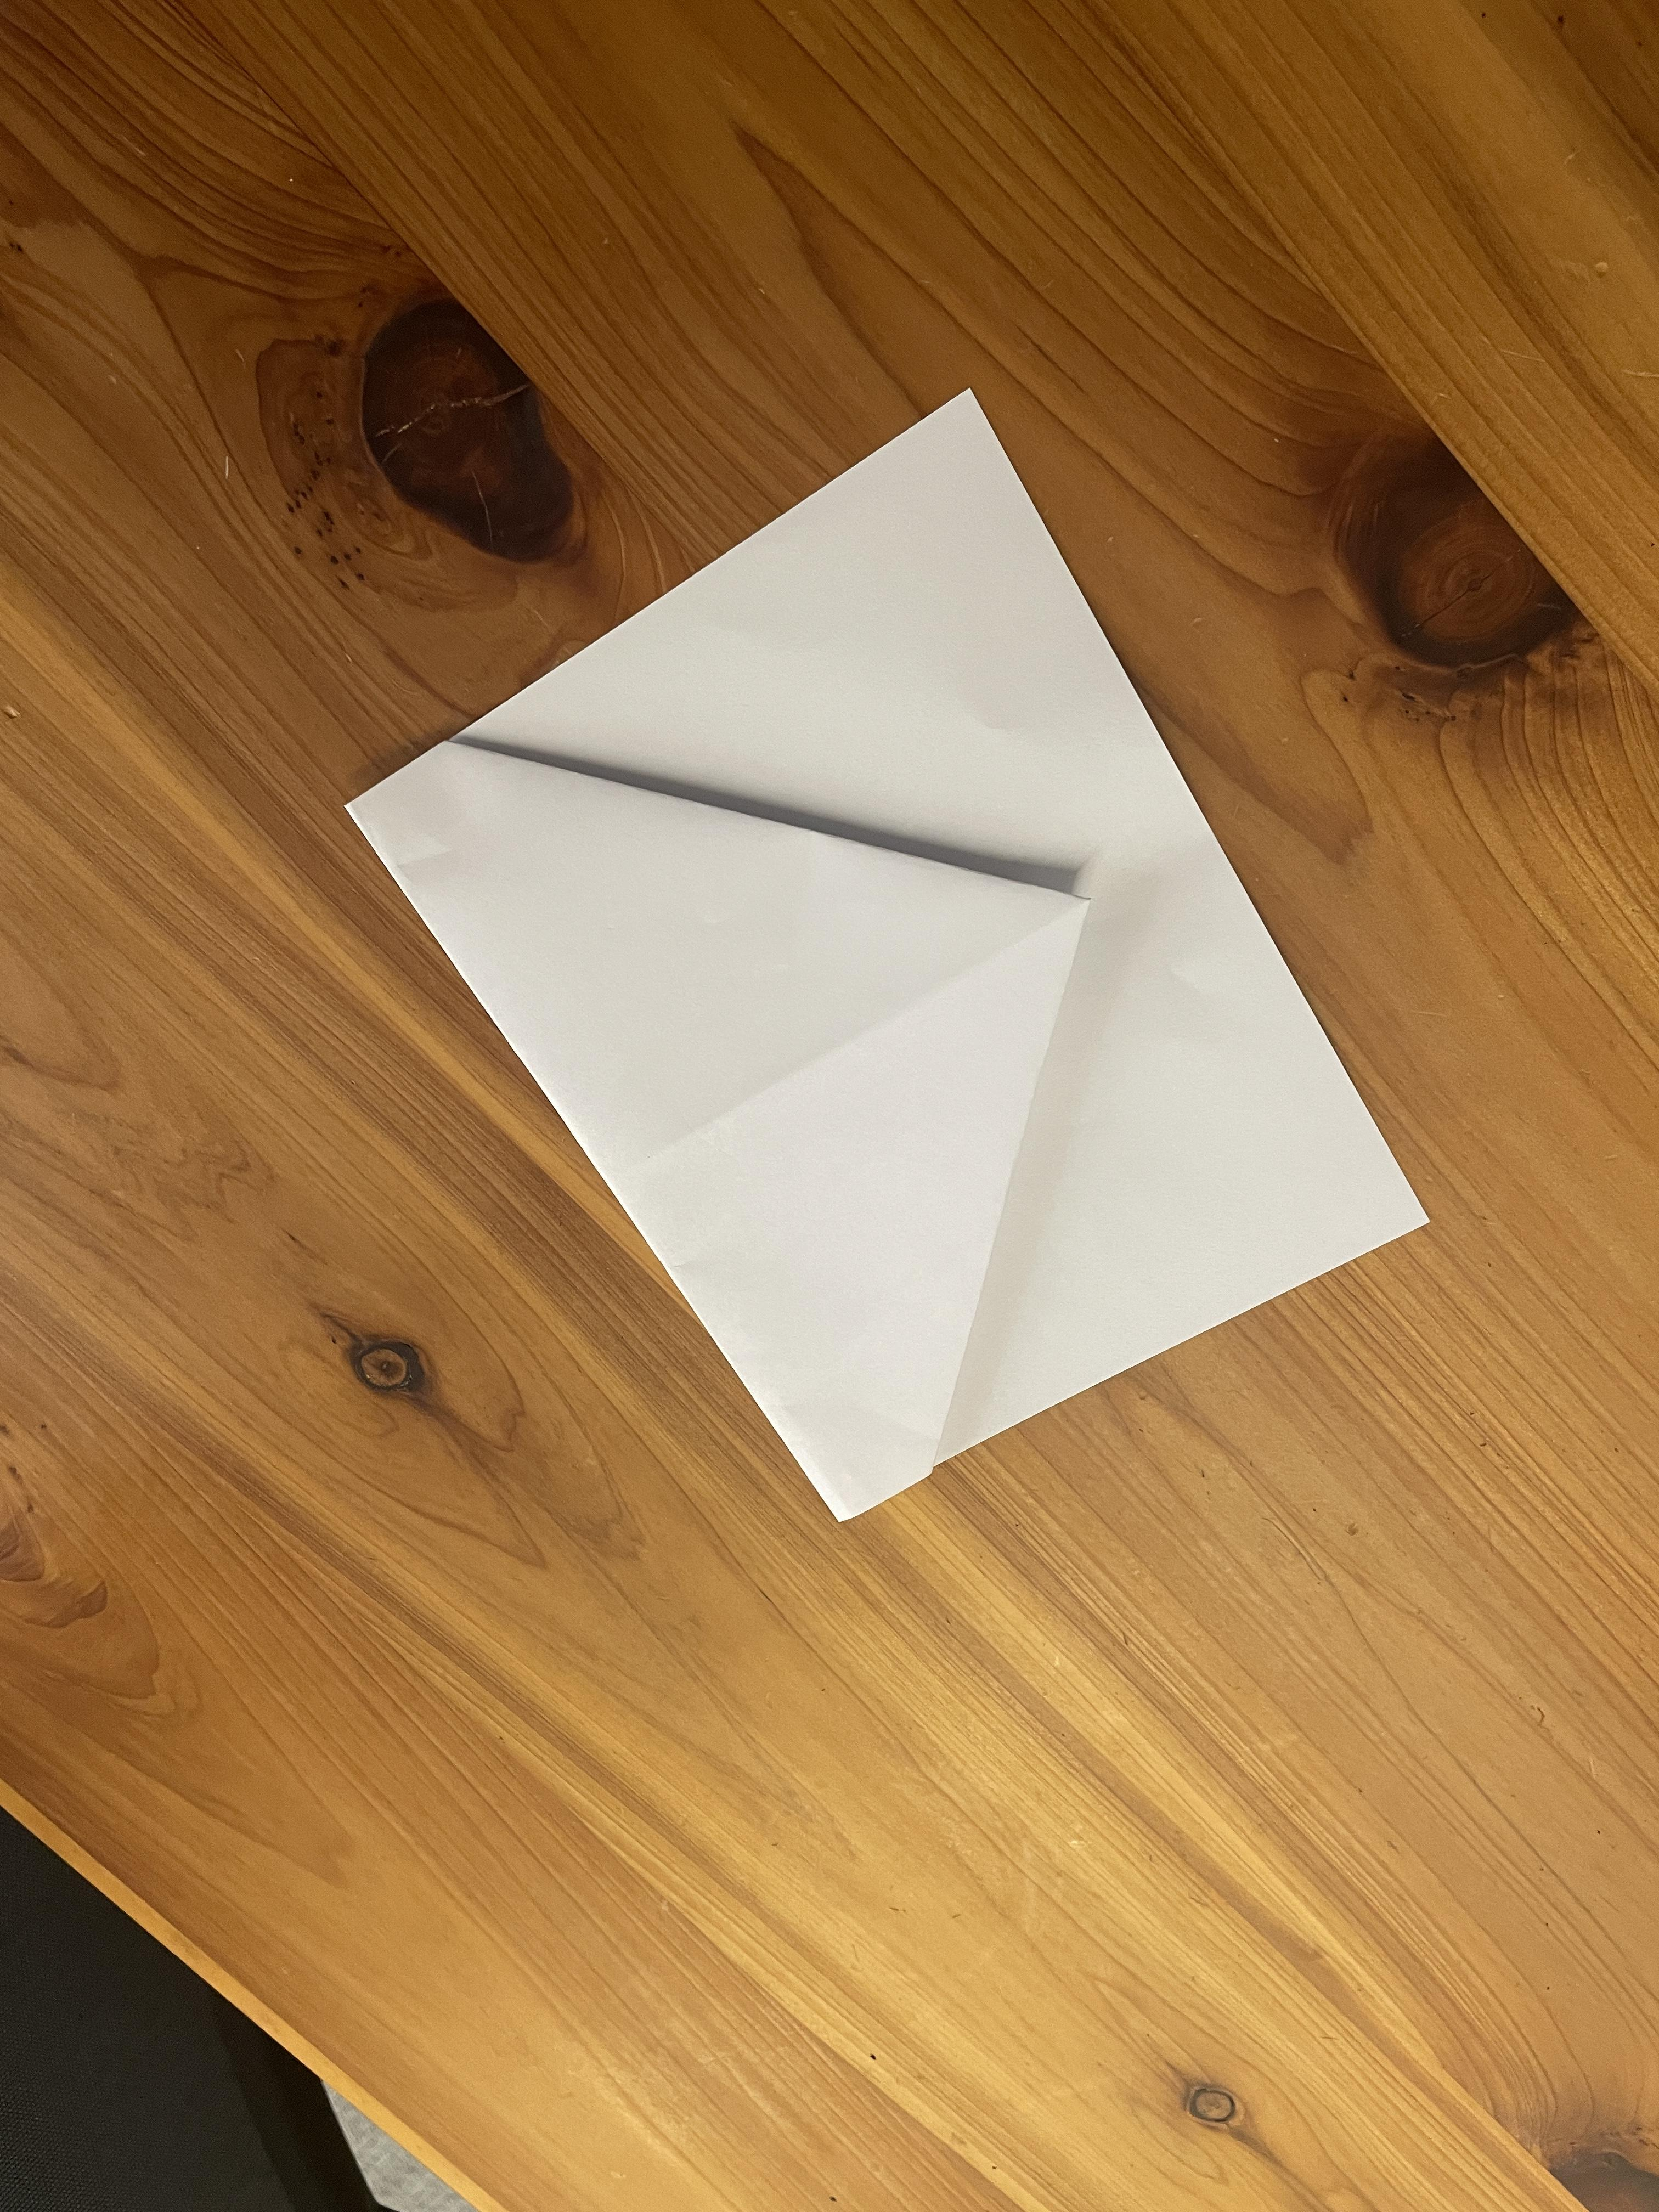shape_1: (307, 331, 1547, 1639)
